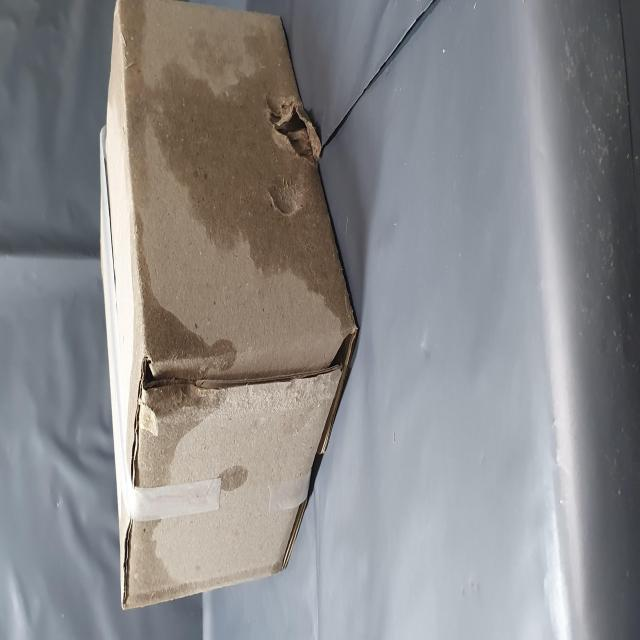wet: (32, 202, 350, 610)
